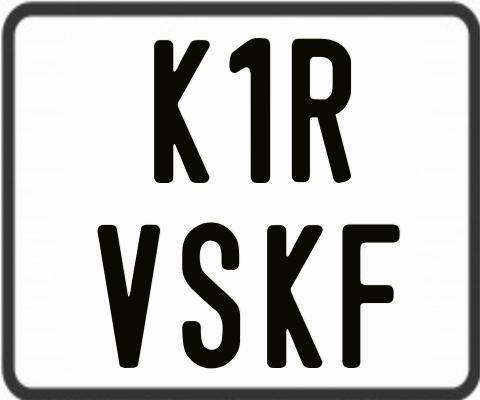1: (228, 35, 273, 185)
F: (342, 224, 400, 370)
K: (266, 222, 325, 367), (151, 37, 208, 180)
R: (292, 38, 351, 183)
S: (179, 221, 243, 373)
V: (96, 225, 160, 373)
